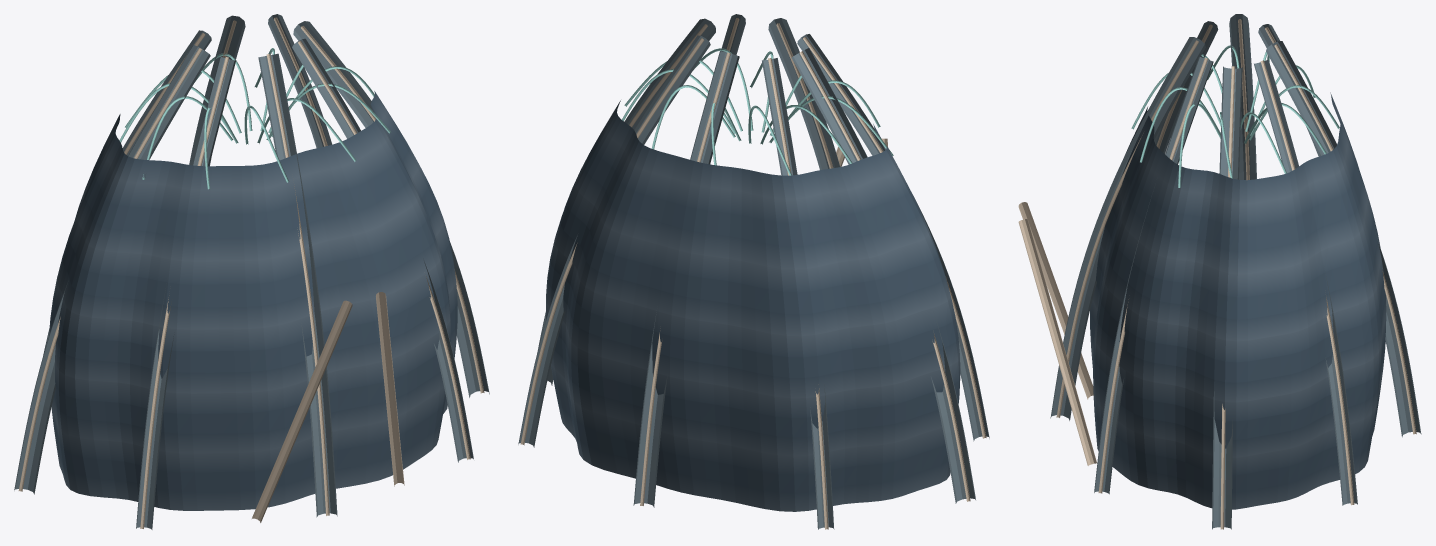
Rendered from hexcore_destination_10.glb.
The picture shows the model from 3 angles, left to right: view 1: azimuth 30°, elevation 25°; view 2: azimuth 150°, elevation 25°; view 3: azimuth 270°, elevation 25°; orthographic projection. The views are drawn at different scales.
Visible parts, largest first — view 1: world; view 2: world; view 3: world.
Part boxes in pixels (x1,y1,x2,y2): world: (14,14,489,529); world: (518,14,989,529); world: (1018,14,1421,529).
Bounding box in the file's own units: 33.16 × 28.8 × 26.69.
